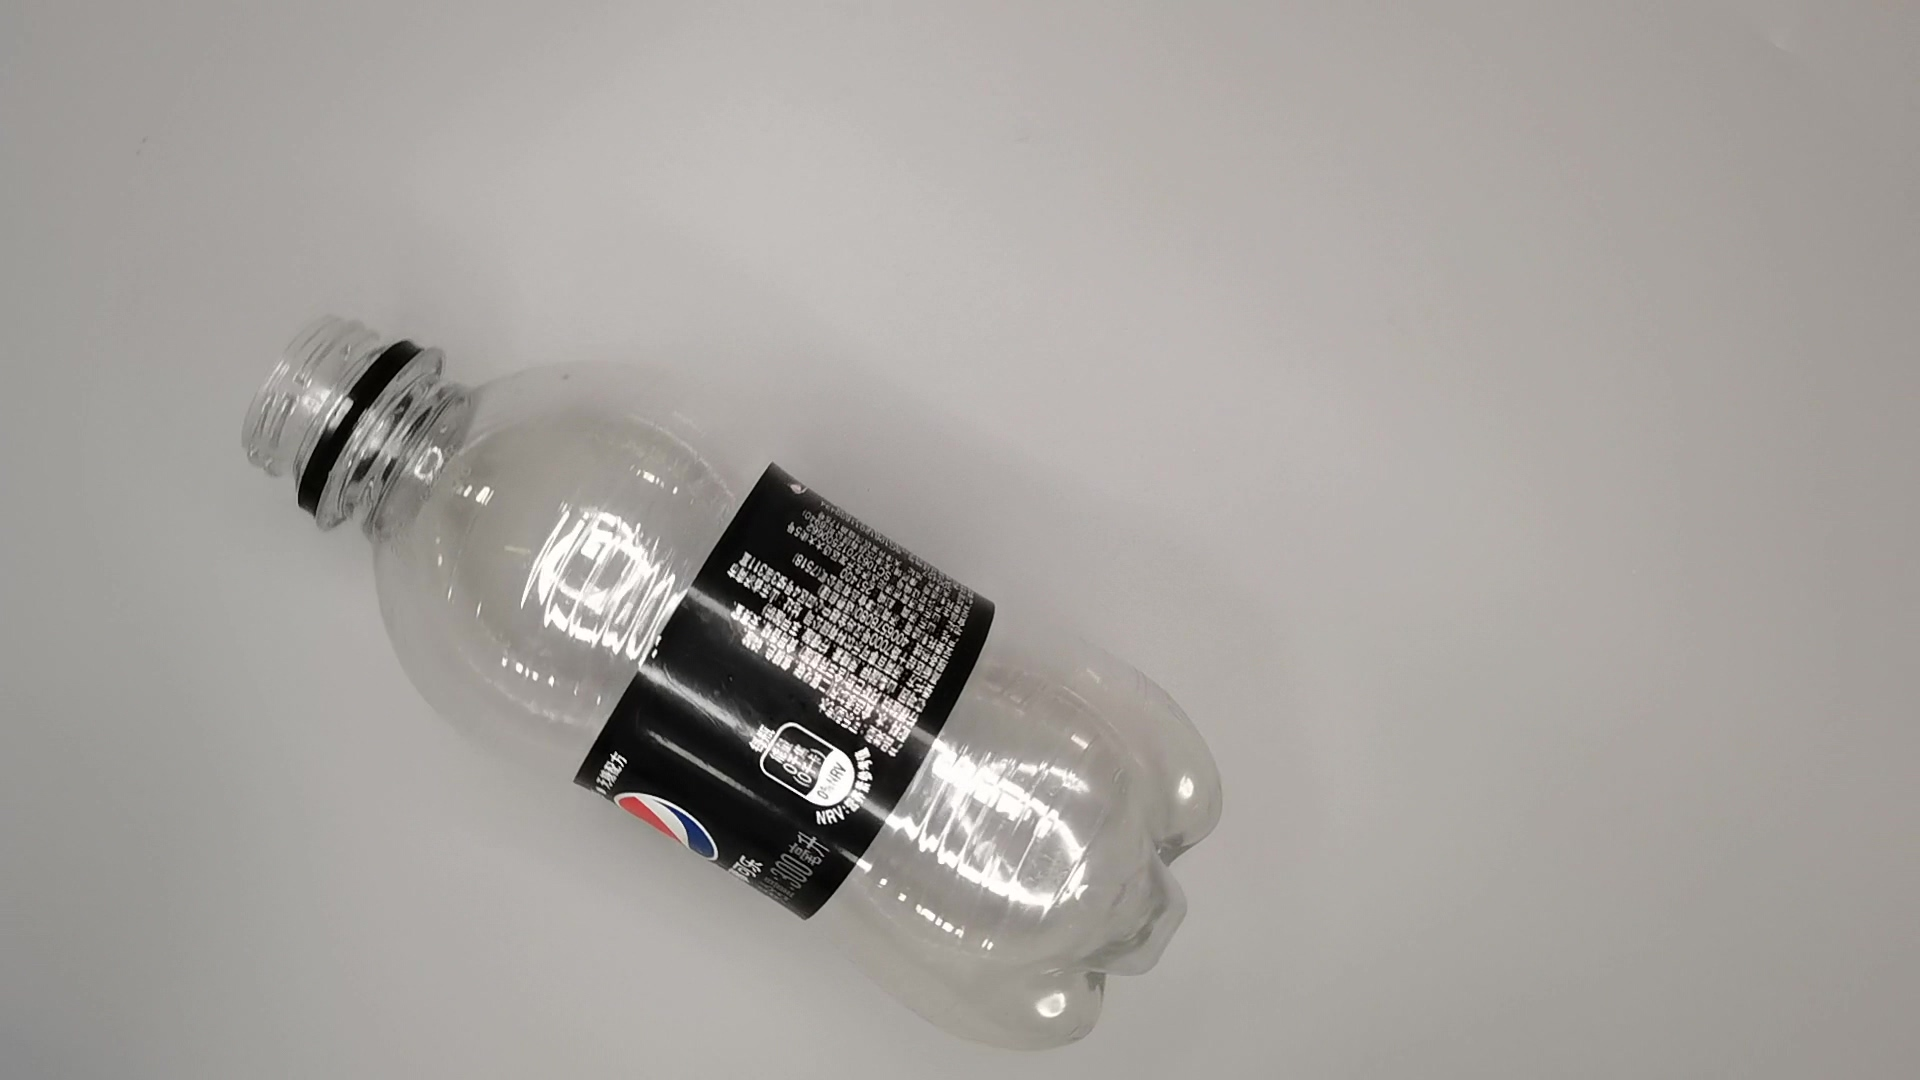bottle: (236, 313, 1230, 1048)
